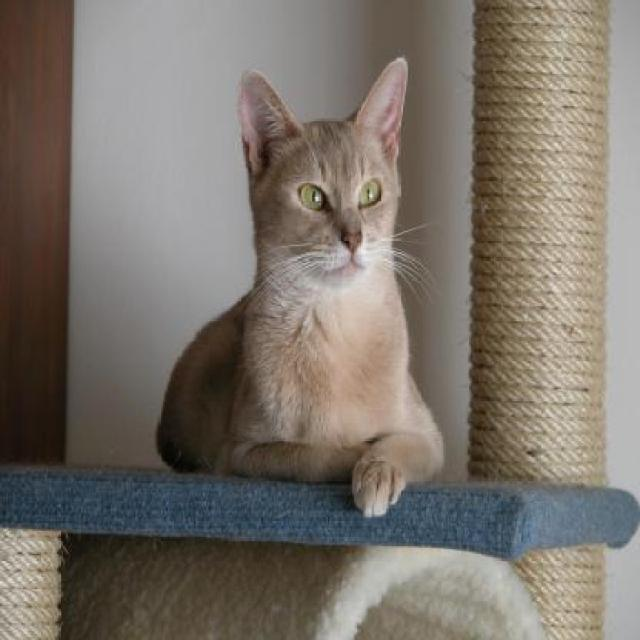cat: (154, 54, 446, 518)
